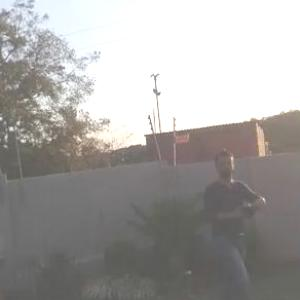follow: (200, 146, 272, 299)
